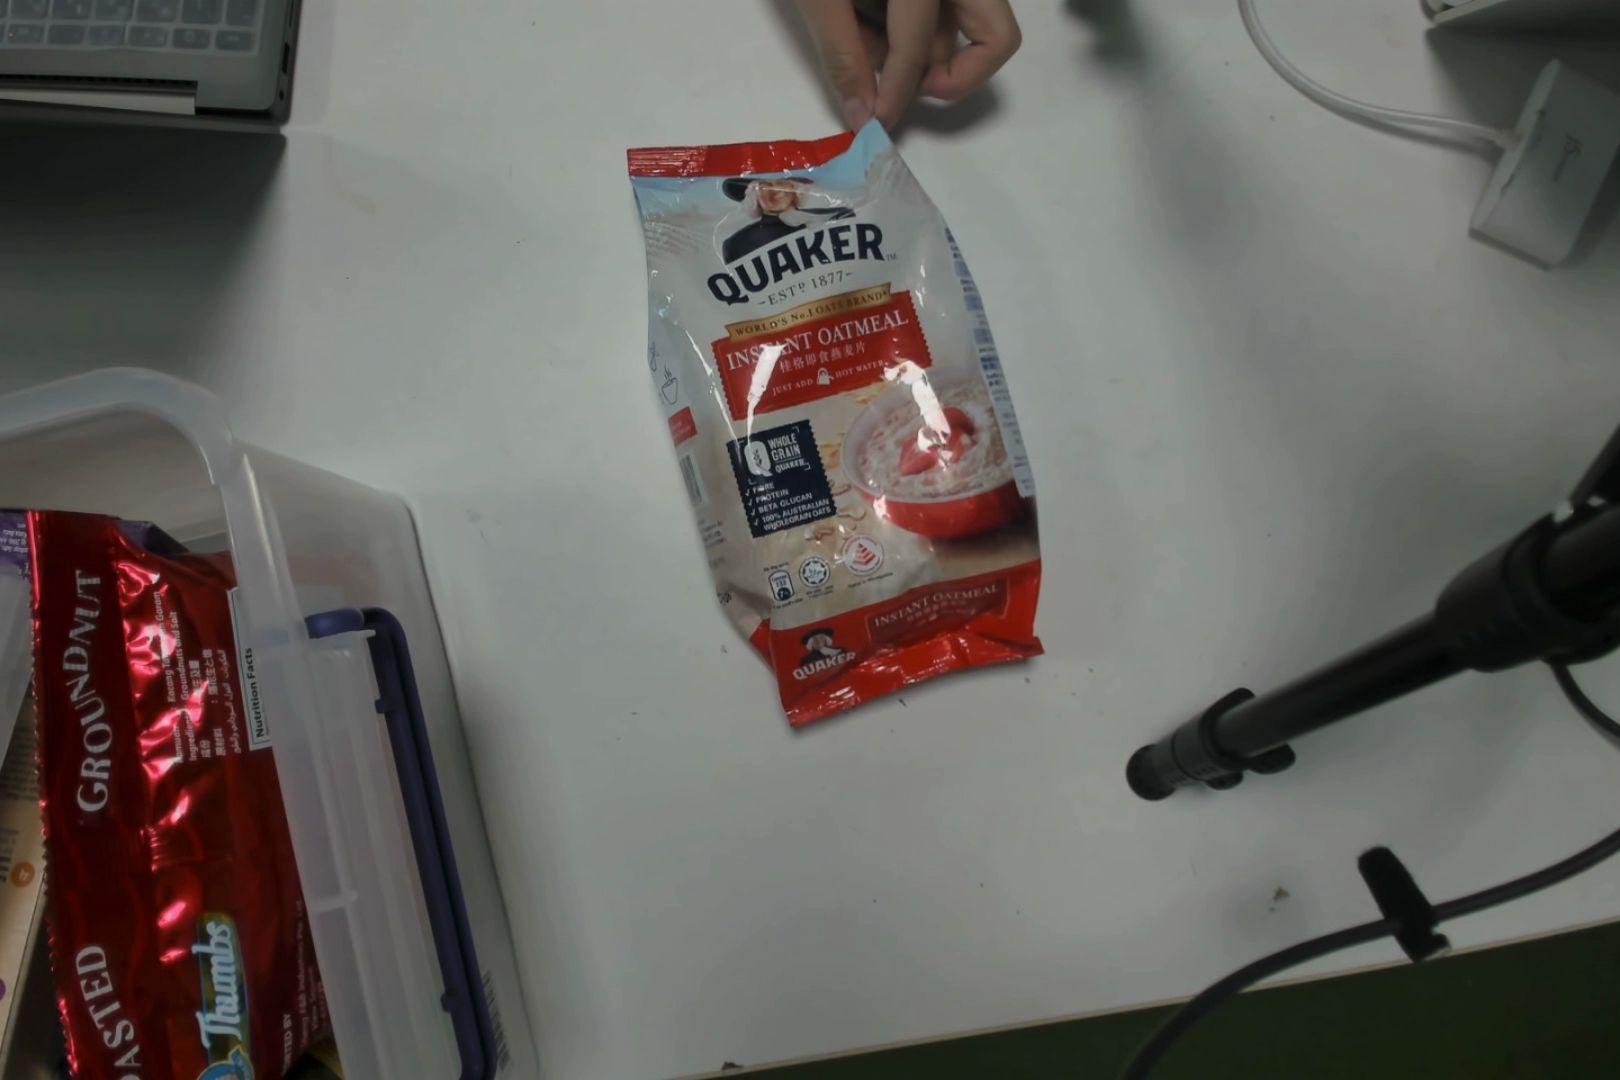RolledOatsInstantOatmeal_400-499g_Halal_Healthy: (673, 115, 1066, 724)
